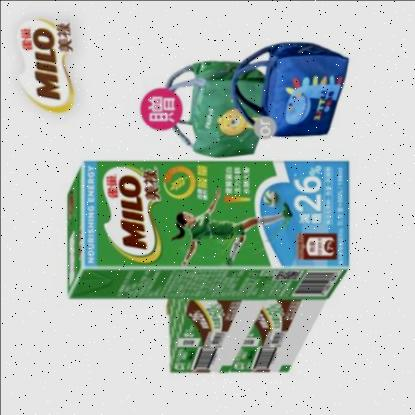Others: (67, 161, 349, 298)
